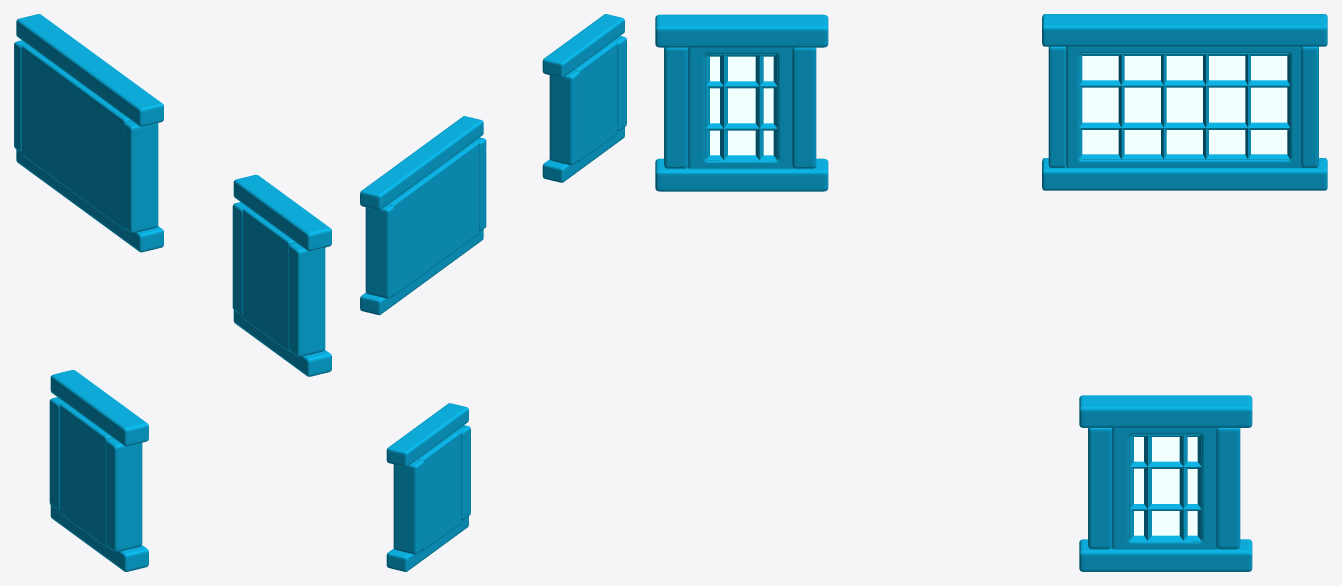
Rendered from SM_Stone_Window_03.fbx.
3 views of the same model, side by side, from view 1: azimuth 30°, elevation 25°; view 2: azimuth 150°, elevation 25°; view 3: azimuth 270°, elevation 25° (orthographic). The views are drawn at different scales.
Visible parts, largest first — view 1: SM_Stone_Window_03; view 2: SM_Stone_Window_03; view 3: SM_Stone_Window_03.
Boxes of the visible parts, x1,y1,x2,y2 form: SM_Stone_Window_03: (14, 14, 331, 571); SM_Stone_Window_03: (360, 14, 626, 571); SM_Stone_Window_03: (655, 14, 1327, 571).
Bounding box in the file's own units: 0.2537 × 3.48 × 3.89.
